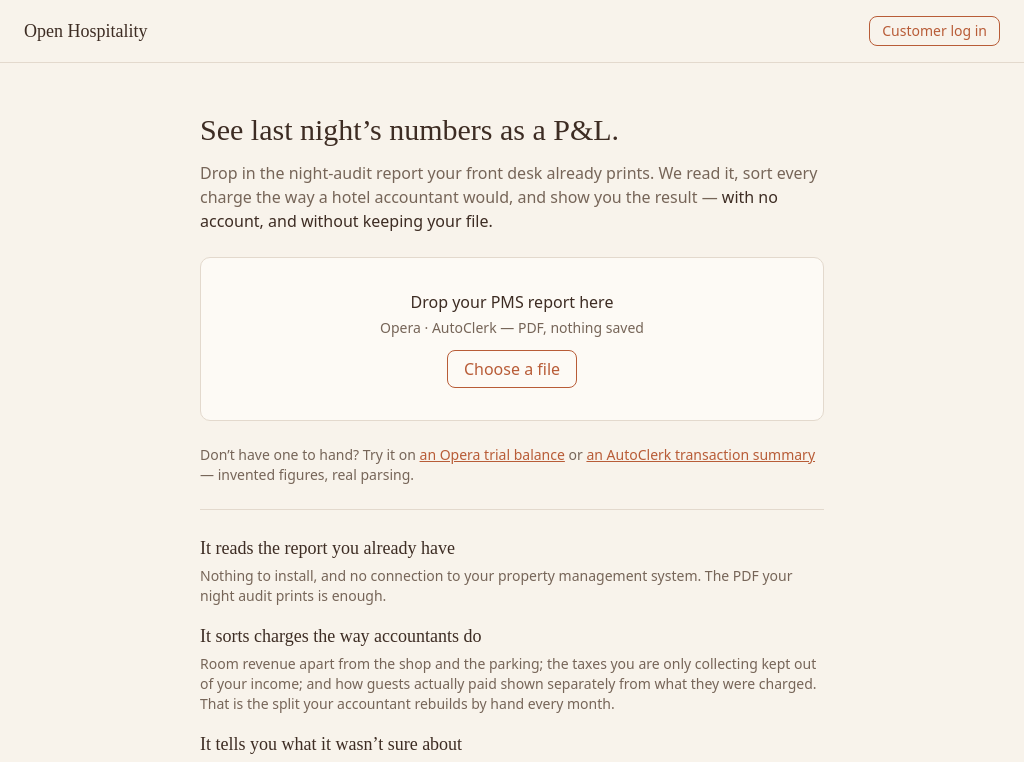
Test: PreviewPage (public) › reports a sample that fails to load instead of hanging on "Reading…"
Click the button "an AutoClerk transaction summary". click: (701, 454)
box: [586,444,815,464]
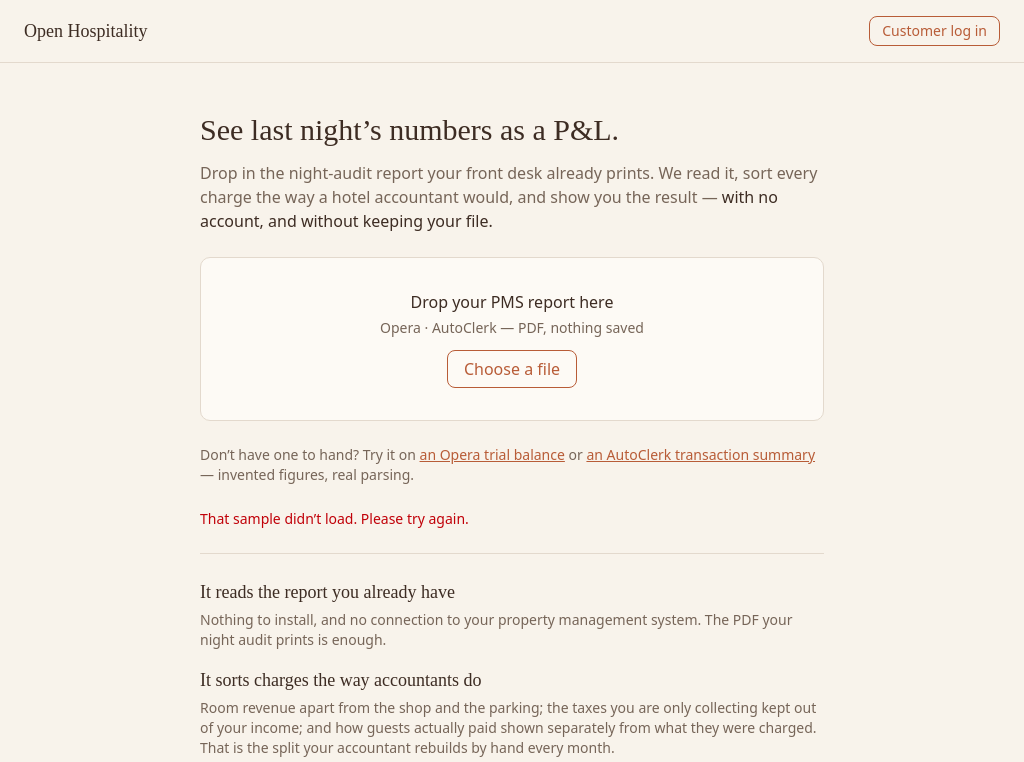
Now the message shows "sample didn’t load", box [200,508,469,528]
